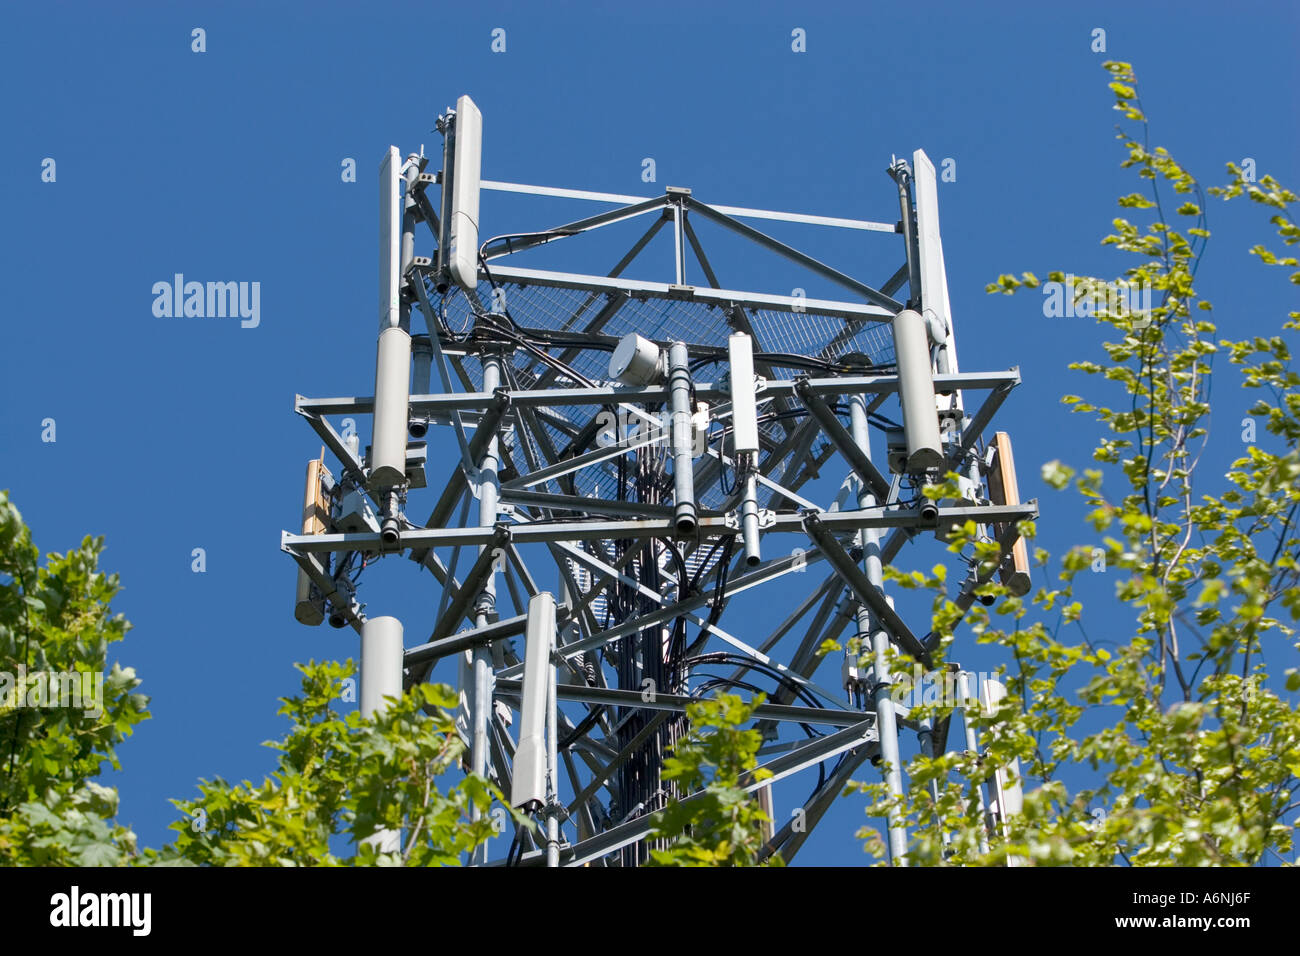ba: (606, 319, 654, 399)
sa: (881, 121, 967, 319), (863, 300, 947, 486), (351, 134, 414, 352), (512, 577, 565, 831), (362, 304, 422, 502), (449, 103, 496, 326), (980, 427, 1039, 589), (335, 589, 407, 713), (715, 300, 767, 468)
